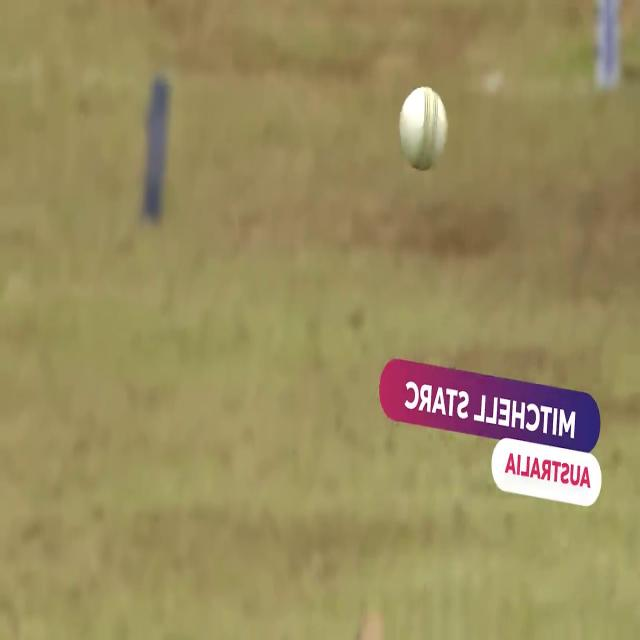ball: (396, 85, 450, 175)
